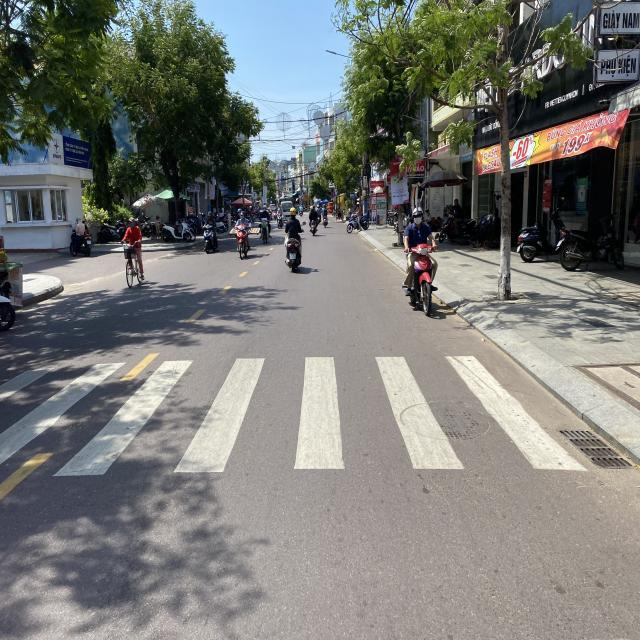walk-crossing: (2, 362, 620, 482)
